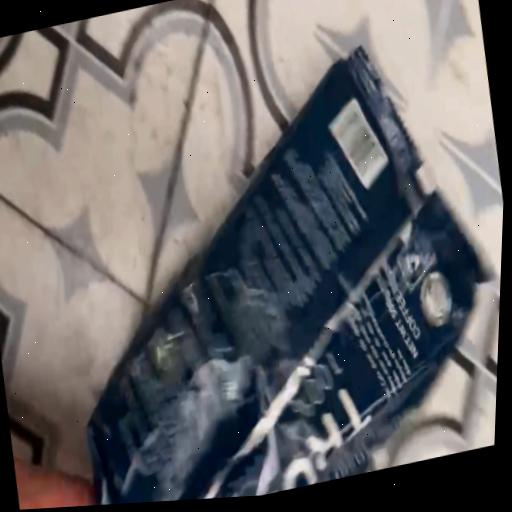cafe_hat: (88, 46, 486, 505)
